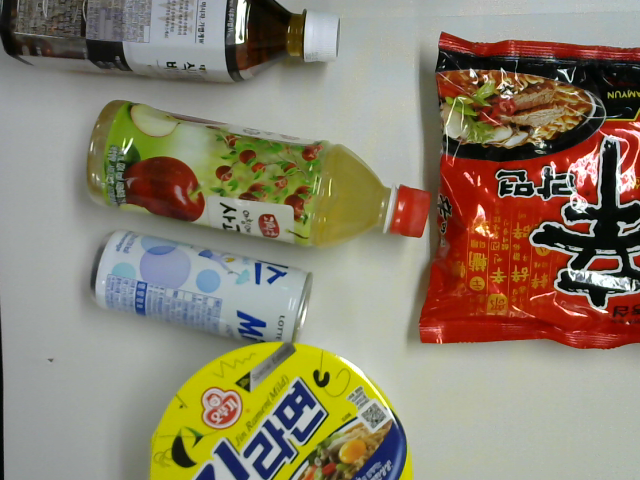Jinlamyeon_Mild_Taste_Large_Cup: (147, 342, 412, 480)
Milkies_250ml: (86, 230, 315, 350)
Morning_Apple_500ml: (85, 97, 434, 249)
Post-meal_recipe_W_tea_500ml: (1, 1, 345, 86)
Sinramen: (419, 29, 640, 345)
